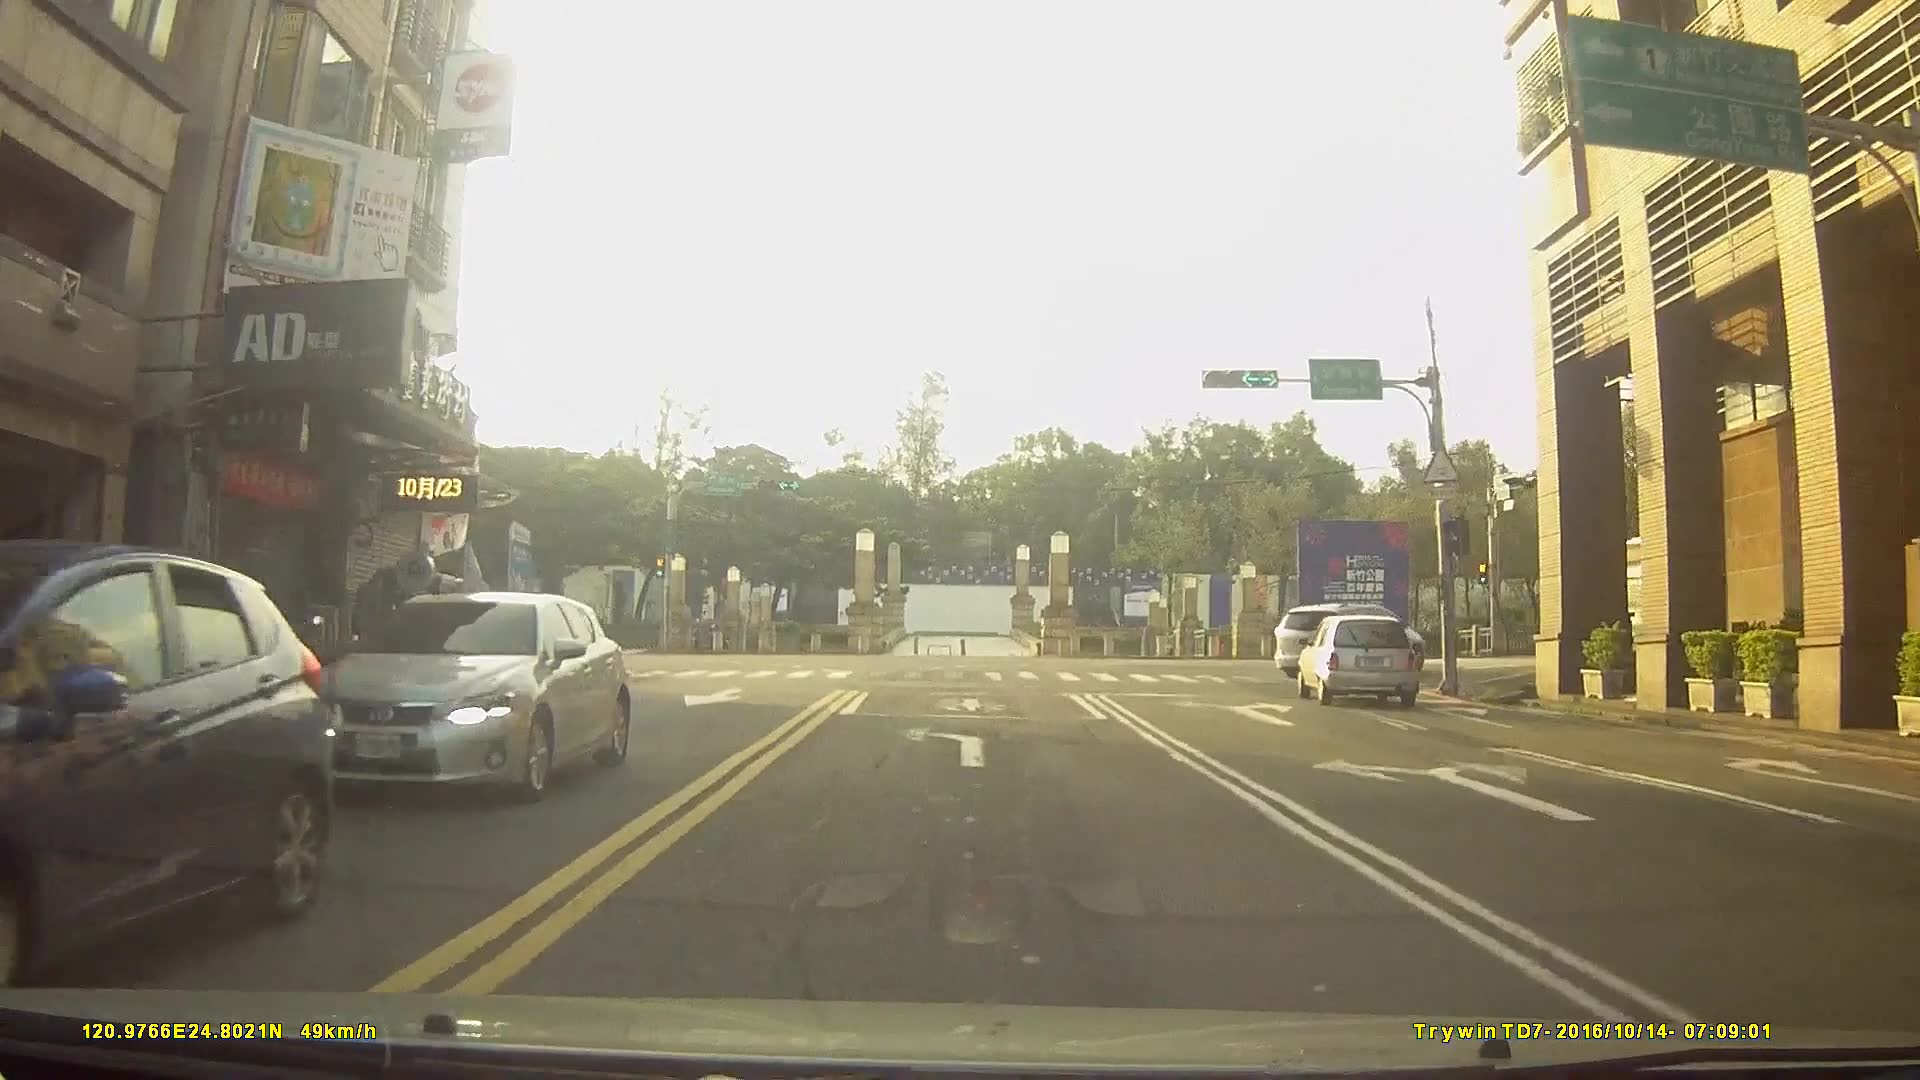vehicle: (0, 535, 330, 1006), (309, 587, 629, 803), (1274, 601, 1424, 683), (1296, 612, 1420, 705)
